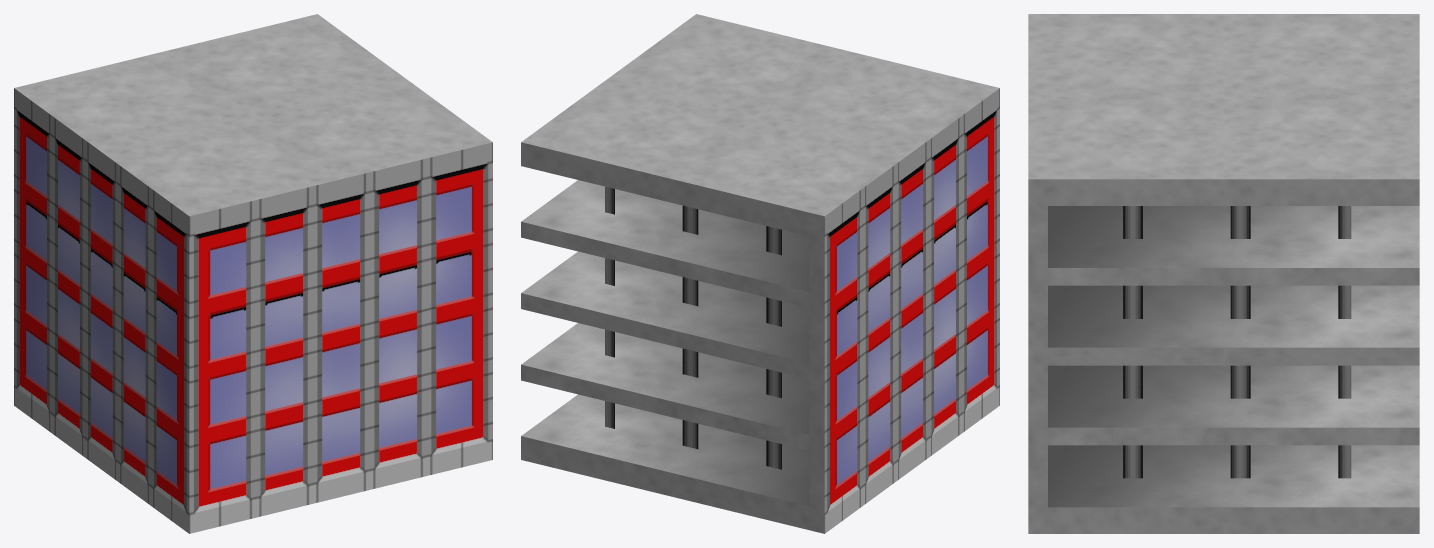
File: BlockApartment.FBX
The picture shows the model from 3 angles, left to right: view 1: azimuth 30°, elevation 25°; view 2: azimuth 150°, elevation 25°; view 3: azimuth 270°, elevation 25°; orthographic projection. The views are drawn at different scales.
Visible parts, largest first — view 1: Object004; view 2: Object004; view 3: Object004.
Boxes of the visible parts, left/top/right/bottom form: Object004: left=14, top=14, right=492, bottom=533; Object004: left=521, top=14, right=999, bottom=533; Object004: left=1028, top=14, right=1419, bottom=533.
Bounding box in the file's own units: 10 × 10 × 10.
Materials: 4 (4 with a texture image).
